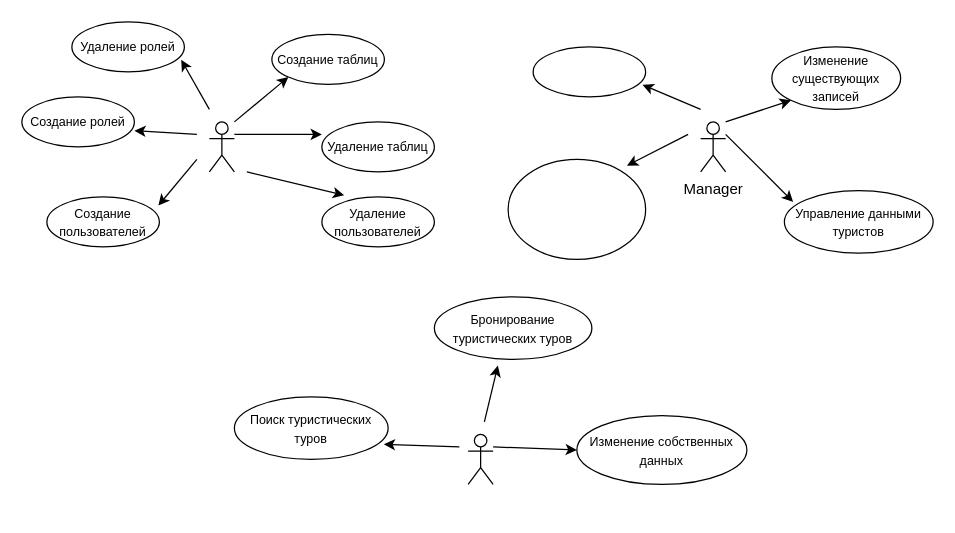
The diagram is 955 pixels wide and 533 high, and some of its shapes have lost their labels. Each missing label, with the centre of its shape:
"Administrator" belongs at (x=221, y=146).
"User" belongs at (x=480, y=458).
"Добавление новых записей" belongs at (x=589, y=71).
"Управление данными поставщиков услуг" belongs at (x=576, y=208).
